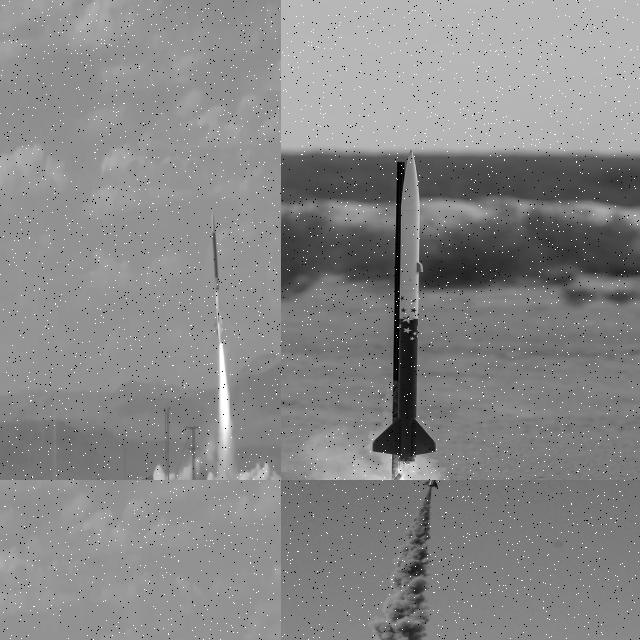Rocket: (371, 148, 438, 464), (211, 212, 225, 344), (422, 480, 442, 489)
